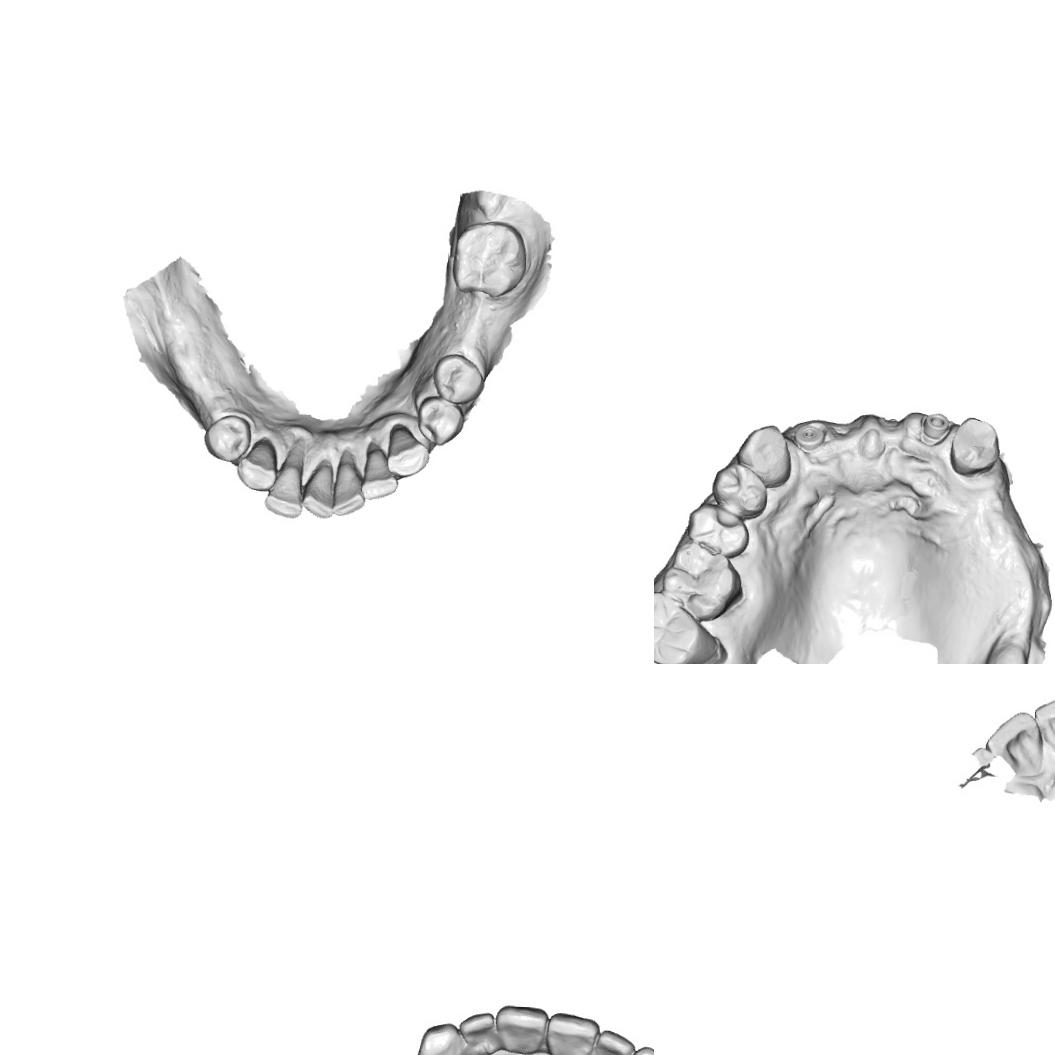canine: (735, 422, 793, 489), (948, 415, 1002, 477), (384, 421, 432, 478), (236, 436, 278, 492), (414, 1020, 467, 1055)
implant: (918, 412, 952, 446), (792, 422, 828, 452)
incisor: (984, 709, 1046, 779), (264, 446, 306, 520), (495, 1003, 549, 1055), (330, 450, 368, 518), (545, 1010, 602, 1055), (360, 440, 400, 503), (300, 458, 334, 520), (457, 1009, 497, 1055), (1031, 695, 1055, 759), (593, 1028, 637, 1055)
molar: (660, 540, 744, 622), (450, 219, 529, 301), (654, 587, 725, 664)
premolar: (685, 500, 751, 560), (710, 460, 771, 520), (430, 352, 486, 405), (416, 395, 466, 448), (202, 412, 252, 464)
